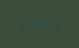eight: (35, 19, 40, 28), (41, 20, 46, 28)
five: (47, 20, 52, 28), (53, 20, 58, 28)
nine: (29, 19, 34, 27)
six: (17, 19, 22, 27)
zero: (23, 19, 28, 27)
